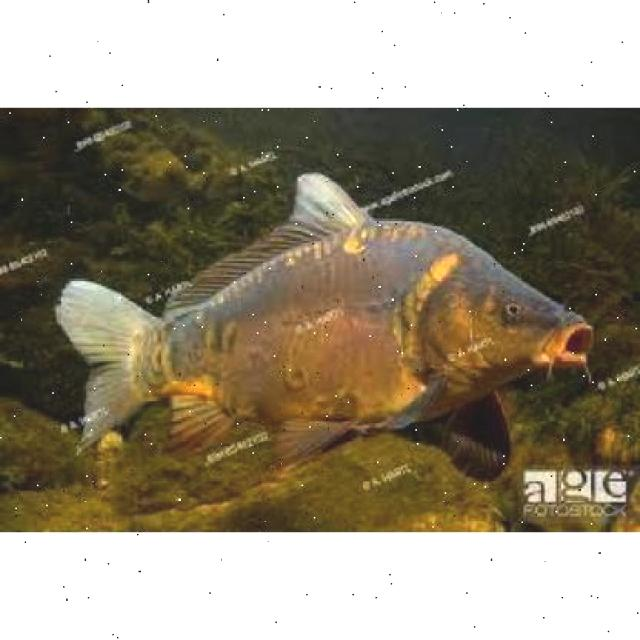ikan-mas: (62, 175, 596, 458)
